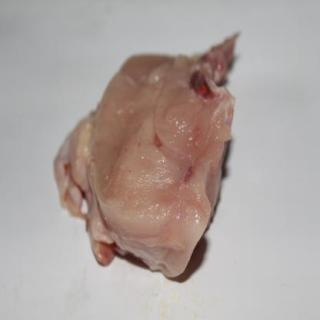Ayam: (54, 32, 240, 280)
